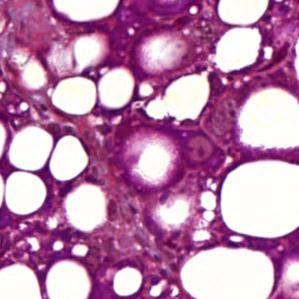steatosis: (8, 127, 54, 172), (52, 75, 97, 117)
